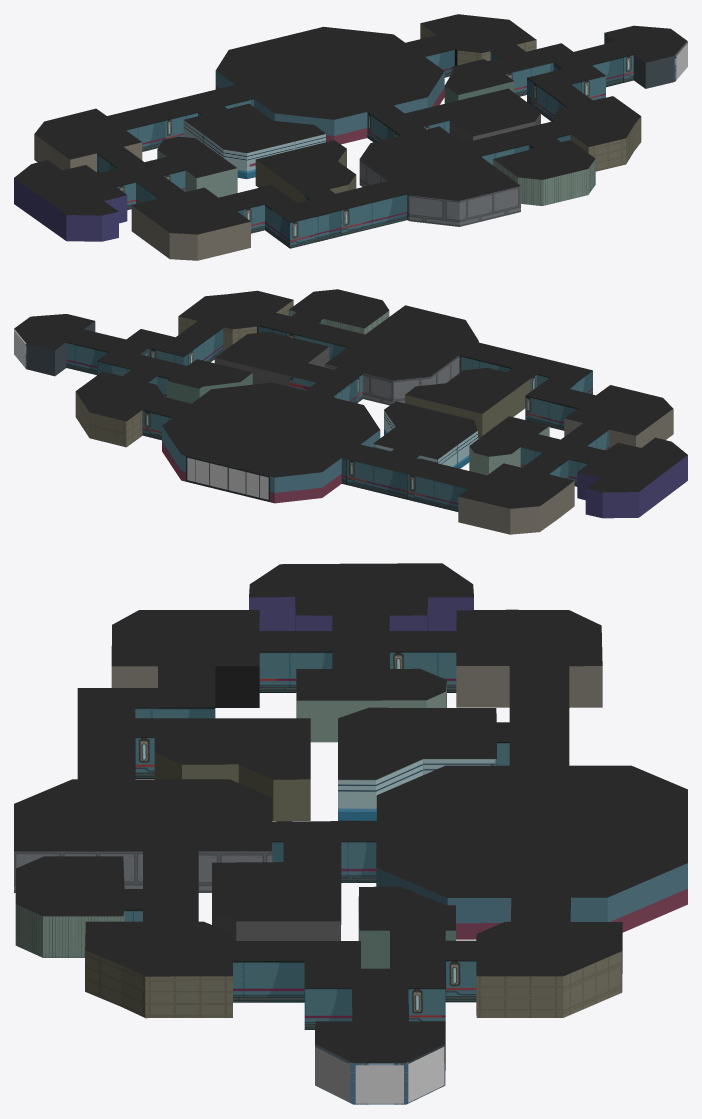
The model's file is ship.fbx.
The picture shows the model from 3 angles, top to bottom: view 1: azimuth 30°, elevation 25°; view 2: azimuth 150°, elevation 25°; view 3: azimuth 270°, elevation 25°; orthographic projection. The views are drawn at different scales.
Parts seen in each view (by area): view 1: Plane; view 2: Plane; view 3: Plane.
Boxes of the visible parts, x1=… form: Plane: x1=14, y1=14, x2=687, y2=260; Plane: x1=14, y1=289, x2=687, y2=534; Plane: x1=14, y1=563, x2=687, y2=1104.
Bounding box in the file's own units: 12636 × 490 × 7192.
